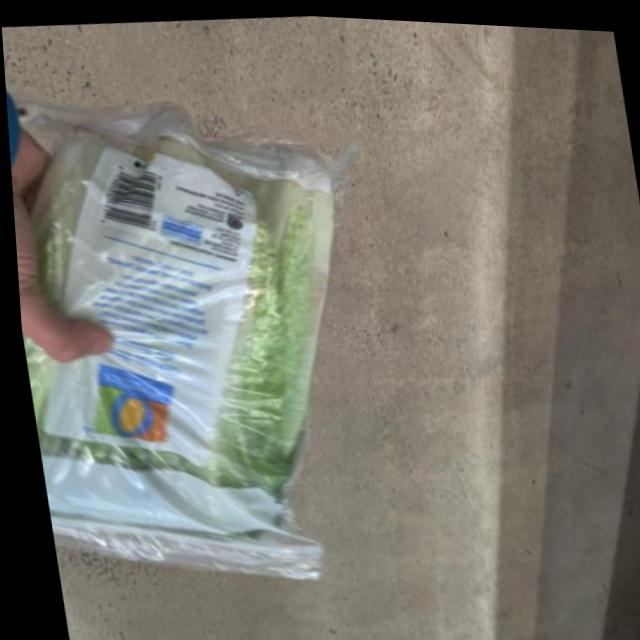Lettuce: (5, 97, 401, 604)
